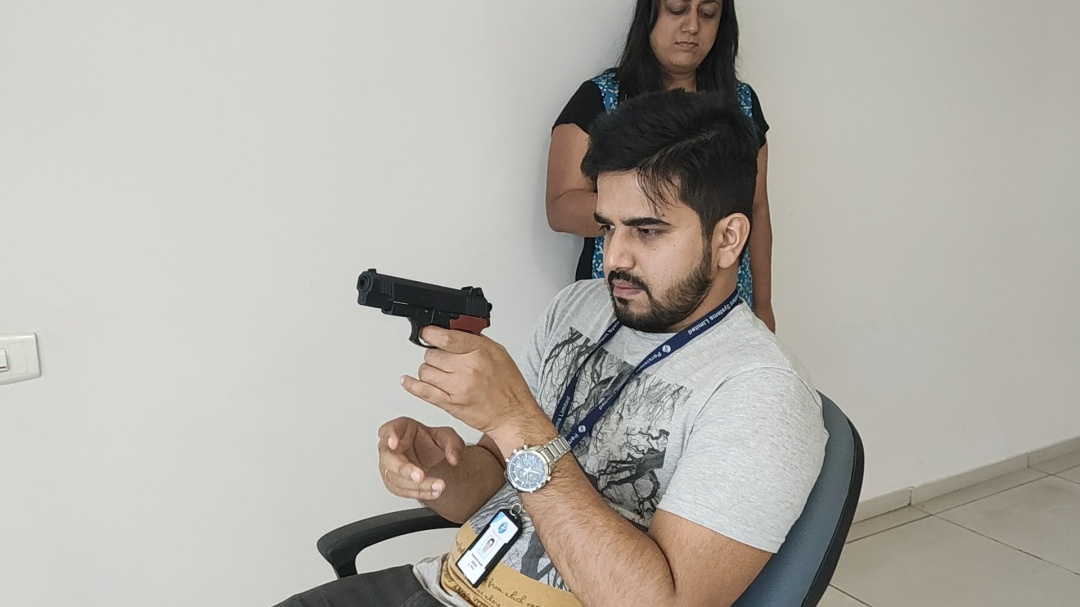gun: (356, 268, 492, 349)
